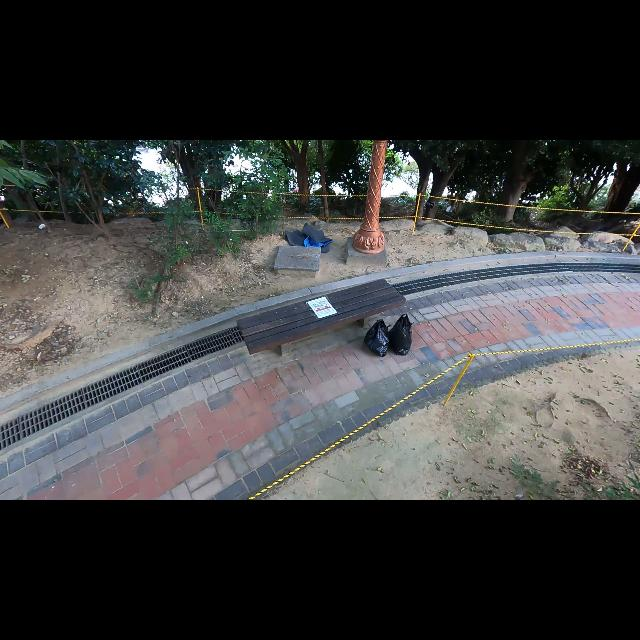trash: (387, 313, 415, 359), (363, 316, 392, 358)
